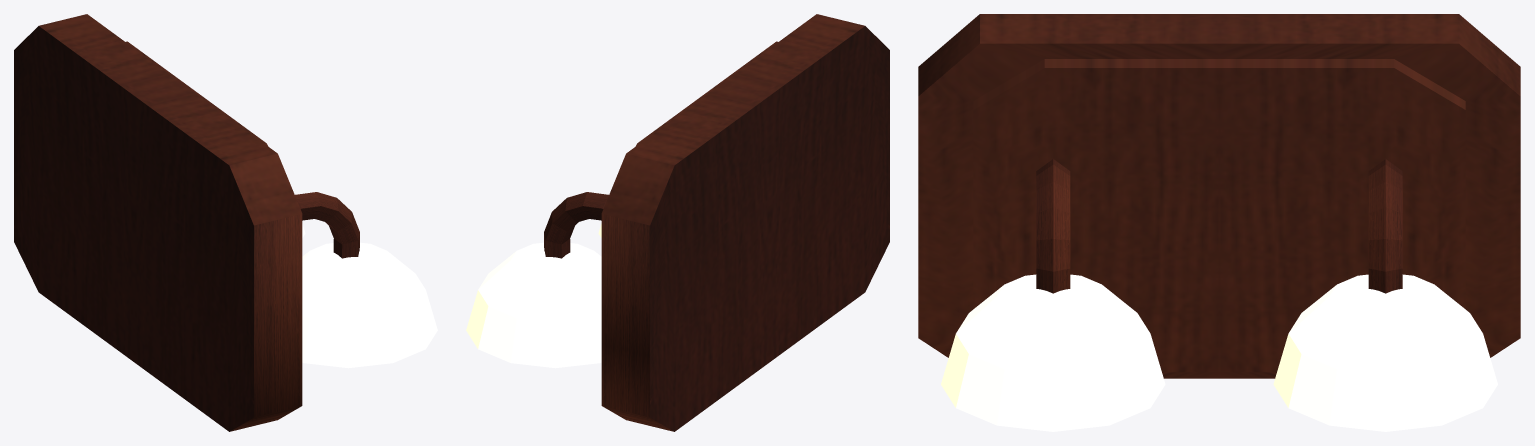
The model's file is lampi.fbx.
3 views of the same model, side by side, from view 1: azimuth 30°, elevation 25°; view 2: azimuth 150°, elevation 25°; view 3: azimuth 270°, elevation 25° (orthographic). The views are drawn at different scales.
Parts seen in each view (by area): view 1: Cube, Sphere, Torus; view 2: Cube, Sphere, Torus; view 3: Cube, Sphere, Torus.
Part boxes in pixels (x1,y1,x2,y2): Cube: (14,14,302,431); Sphere: (302,223,437,368); Torus: (295,192,359,258); Cube: (601,14,889,431); Sphere: (466,223,601,368); Torus: (544,192,608,258); Cube: (918,14,1520,378); Sphere: (941,274,1497,431); Torus: (1036,159,1402,293).
Bounding box in the file's own units: 167 × 188 × 307.
Materials: 4 (1 with a texture image).
